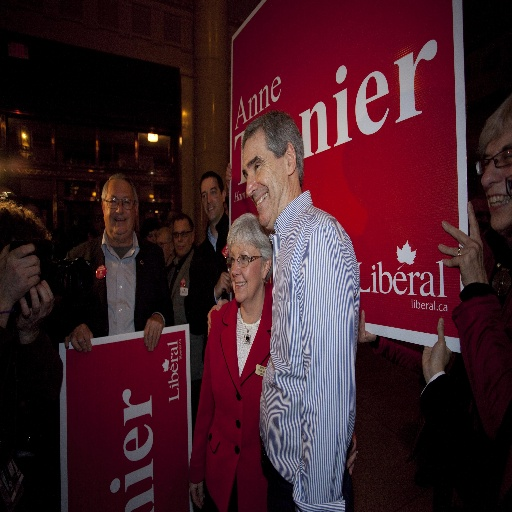hand: (438, 199, 490, 288), (0, 241, 40, 307), (15, 277, 54, 334), (421, 316, 451, 383), (206, 298, 229, 340), (63, 324, 94, 355), (142, 314, 164, 354), (359, 310, 376, 345), (345, 430, 357, 479), (215, 270, 232, 299), (188, 475, 202, 509), (224, 162, 232, 189)
